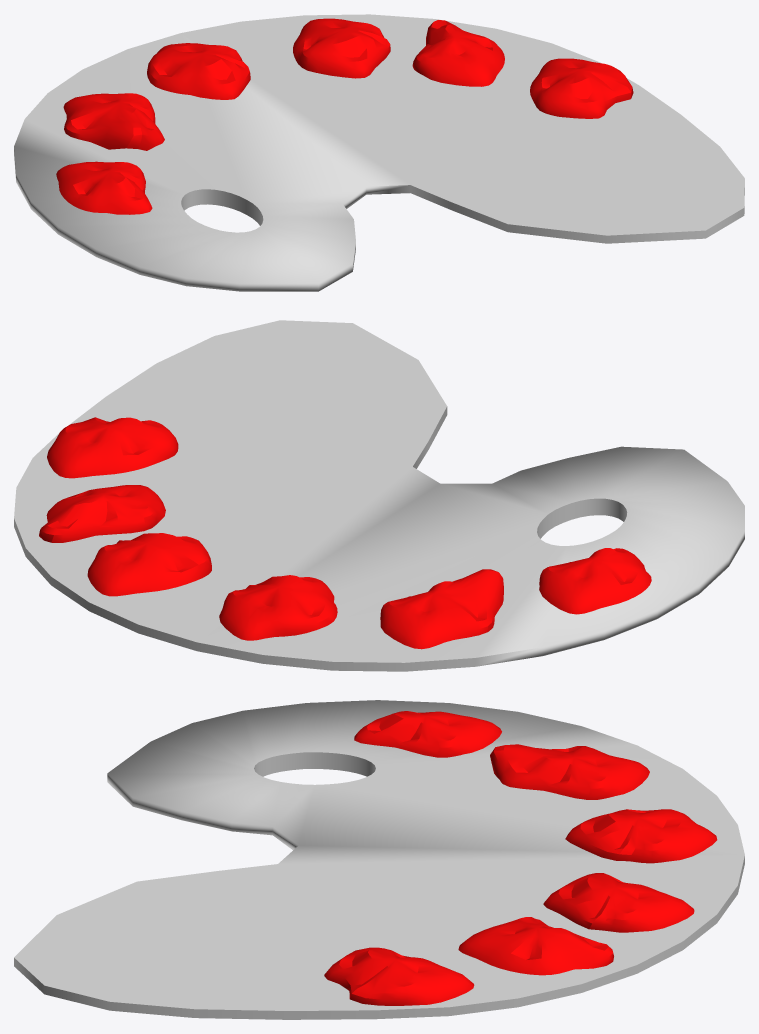
File: Project Schilders panel.fbx
The picture shows the model from 3 angles, top to bottom: view 1: azimuth 30°, elevation 25°; view 2: azimuth 150°, elevation 25°; view 3: azimuth 270°, elevation 25°; orthographic projection. The views are drawn at different scales.
Visible parts, largest first — view 1: Color Palet, Black, Green, Blue, Yellow, White, Red; view 2: Color Palet, Blue, Black, Yellow, Green, White, Red; view 3: Color Palet, Blue, Green, Black, White, Yellow, Red.
Part boxes in pixels (x1,y1,x2,y2): Color Palet: [14, 14, 744, 291]; Black: [530, 58, 633, 118]; Green: [147, 43, 250, 99]; Blue: [63, 93, 164, 150]; Yellow: [293, 18, 390, 78]; White: [412, 20, 504, 86]; Red: [56, 161, 152, 214]; Color Palet: [14, 320, 744, 671]; Blue: [380, 569, 503, 649]; Black: [47, 417, 178, 478]; Yellow: [87, 533, 211, 596]; Green: [219, 575, 337, 640]; White: [39, 485, 165, 542]; Red: [539, 548, 651, 614]; Color Palet: [14, 700, 744, 1019]; Blue: [490, 744, 649, 799]; Green: [565, 809, 717, 863]; Black: [324, 947, 474, 1005]; White: [458, 917, 613, 975]; Yellow: [543, 873, 694, 932]; Red: [354, 711, 501, 757].
Size of the model in its own units: 60.16 by 3.5 by 59.76.
